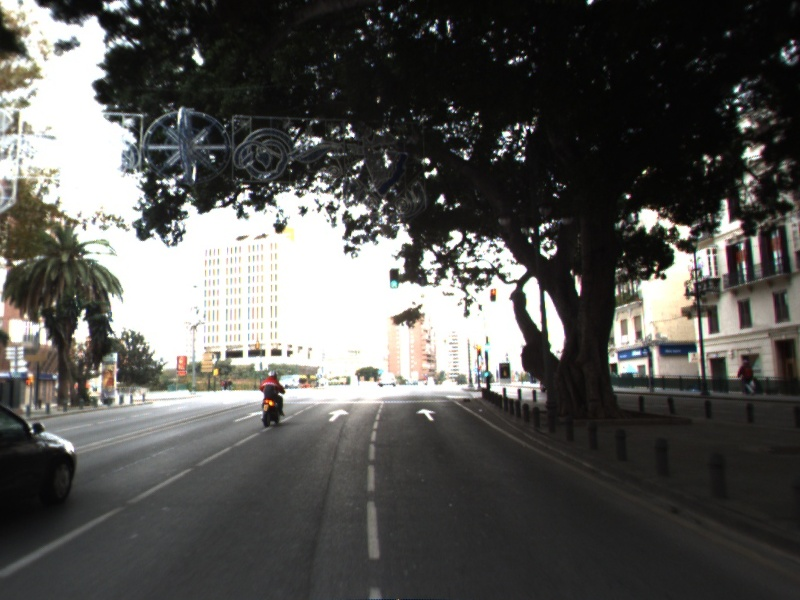STRAIGHT: (230, 409, 264, 423), (326, 406, 352, 424), (414, 406, 439, 423)
